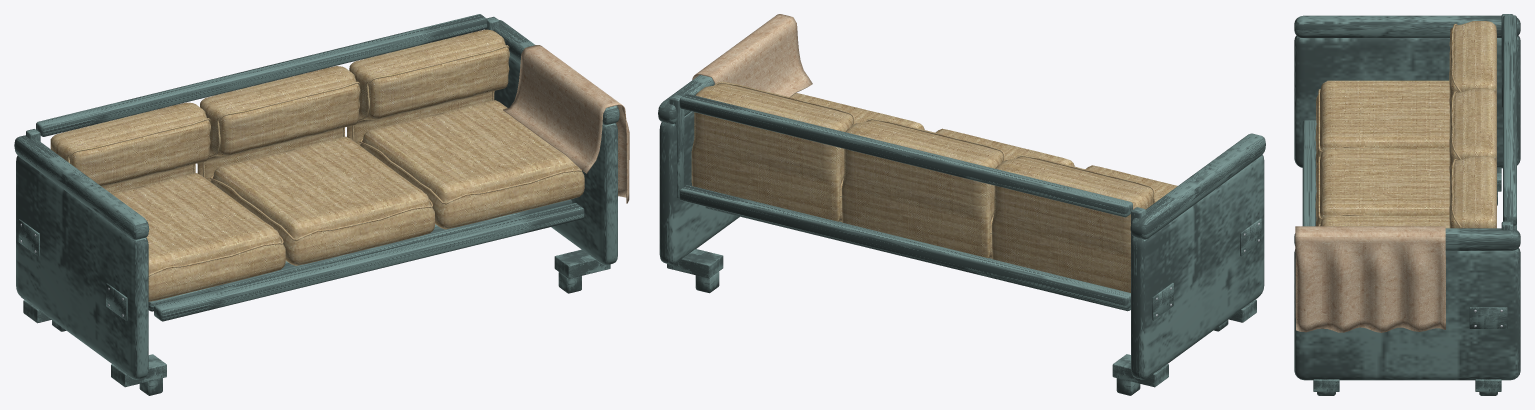
Rendered from sofa.glb.
3 renders of one model, left to right at view 1: azimuth 30°, elevation 25°; view 2: azimuth 150°, elevation 25°; view 3: azimuth 270°, elevation 25°, orthographic. The views are drawn at different scales.
Parts seen in each view (by area): view 1: Frame, SeatCushion_C, SeatCushion_R, SeatCushion_L, BackCushion_R, BackCushion_C, BackCushion_L, Throw, Feet; view 2: Frame, BackCushion_R, BackCushion_C, BackCushion_L, Throw, SeatCushion_C, SeatCushion_R, Feet, SeatCushion_L; view 3: Frame, Throw, SeatCushion_L, SeatCushion_C, BackCushion_R, BackCushion_C, BackCushion_L, SeatCushion_R.
Boxes of the visible parts, <box> form: Frame: <box>14,14,619,387</box>; SeatCushion_C: <box>210,136,434,265</box>; SeatCushion_R: <box>359,100,584,229</box>; SeatCushion_L: <box>111,173,285,301</box>; BackCushion_R: <box>347,29,509,144</box>; BackCushion_C: <box>197,66,360,181</box>; BackCushion_L: <box>50,102,210,193</box>; Throw: <box>503,45,629,203</box>; Feet: <box>52,272,581,395</box>; Frame: <box>658,74,1265,387</box>; BackCushion_R: <box>691,81,855,221</box>; BackCushion_C: <box>841,118,1005,258</box>; BackCushion_L: <box>991,154,1155,292</box>; Throw: <box>692,14,812,97</box>; SeatCushion_C: <box>935,128,1074,258</box>; SeatCushion_R: <box>791,93,924,221</box>; Feet: <box>695,271,1228,395</box>; SeatCushion_L: <box>1085,165,1177,202</box>; Frame: <box>1294,14,1520,391</box>; Throw: <box>1295,226,1445,332</box>; SeatCushion_L: <box>1315,80,1449,164</box>; SeatCushion_C: <box>1315,148,1449,226</box>; BackCushion_R: <box>1449,156,1496,228</box>; BackCushion_C: <box>1449,88,1496,173</box>; BackCushion_L: <box>1449,21,1496,106</box>; SeatCushion_R: <box>1318,215,1449,228</box>.
Size of the model in its own units: 2.25 by 0.8494 by 0.95.
Materials: 1 (1 with a texture image).
